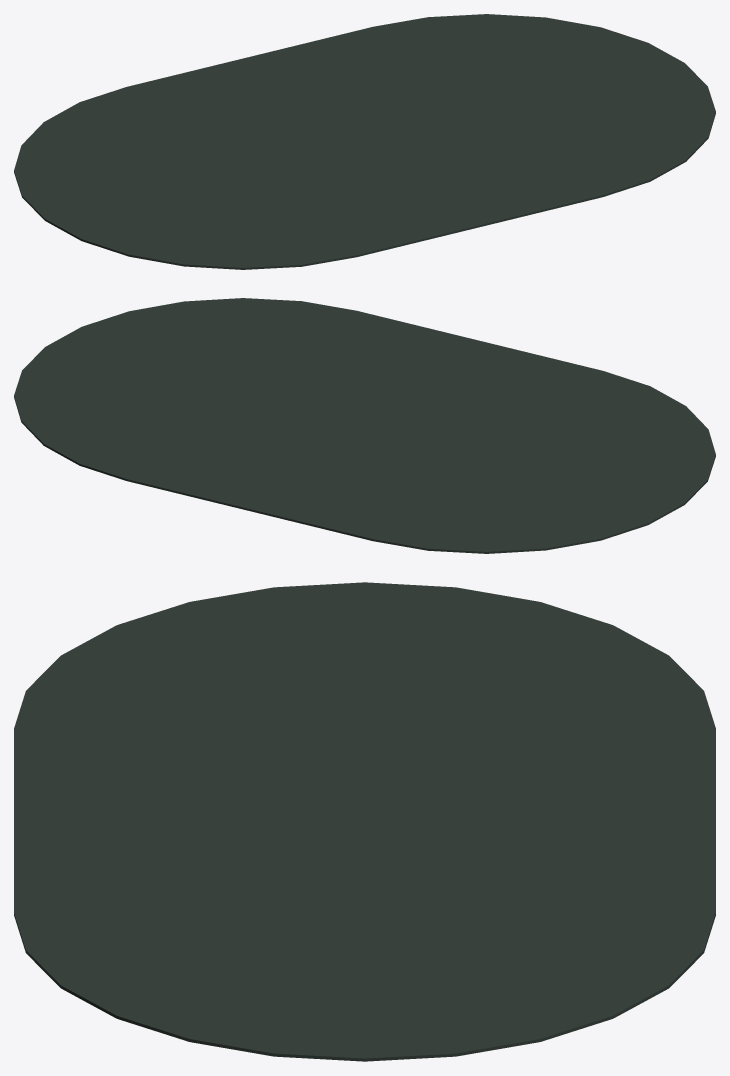
The model's file is rug.FBX.
3 renders of one model, top to bottom at view 1: azimuth 30°, elevation 25°; view 2: azimuth 150°, elevation 25°; view 3: azimuth 270°, elevation 25°, orthographic. The views are drawn at different scales.
Parts seen in each view (by area): view 1: rug; view 2: rug; view 3: rug.
Boxes of the visible parts, <box> form: rug: <box>14,14,715,269</box>; rug: <box>14,298,715,553</box>; rug: <box>14,582,715,1061</box>.
Size of the model in its own units: 214 by 0.6383 by 134.
